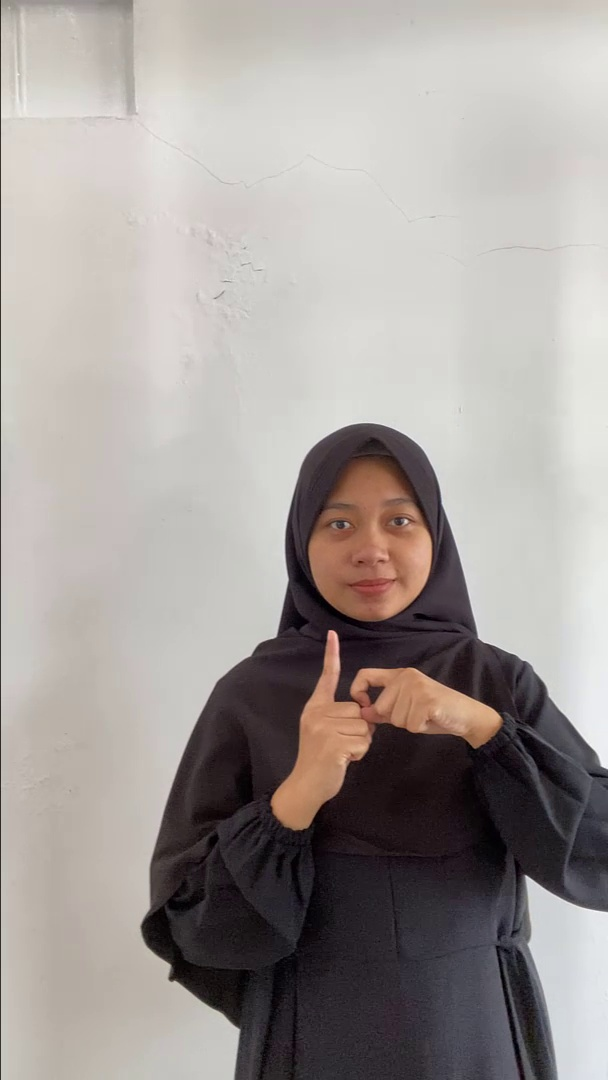KAMIS: (278, 616, 498, 821)
